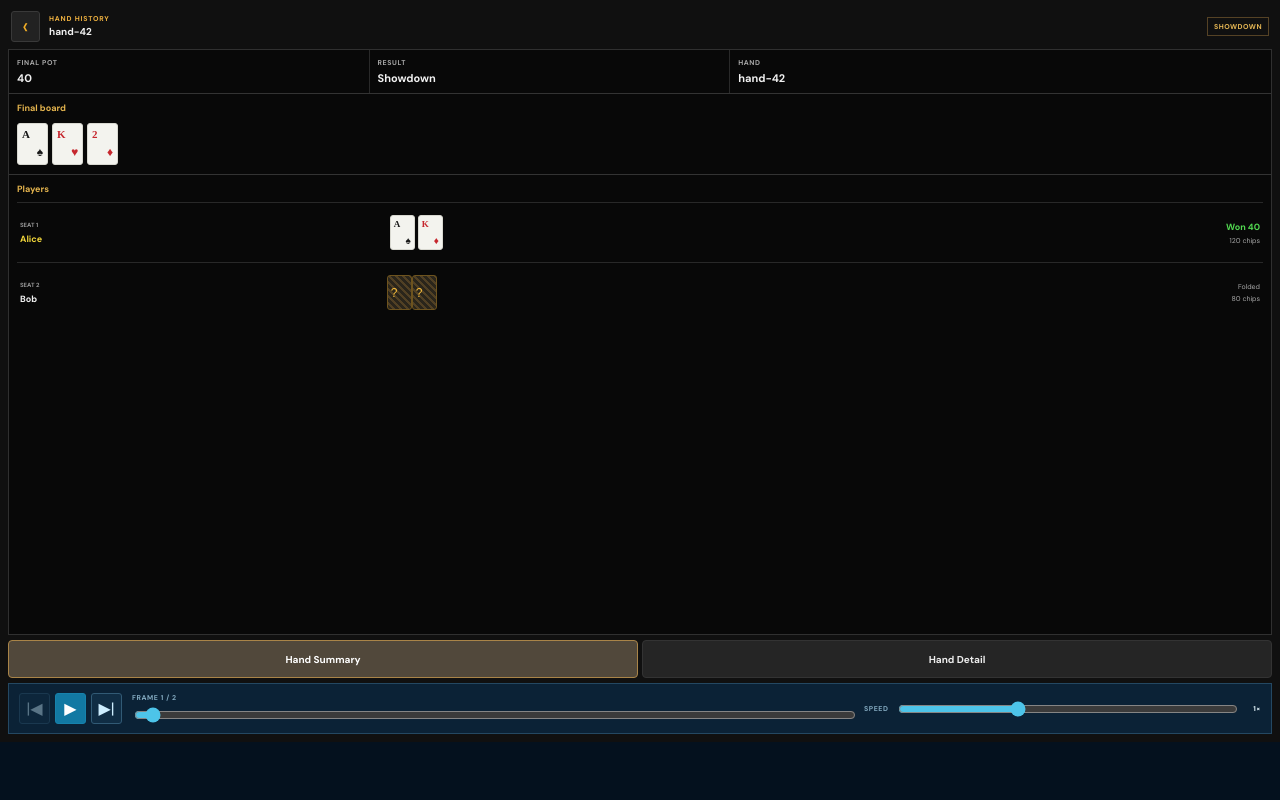
Scenario: HandReplayContainerComponent › shows street-grouped actions in Hand Detail
This screenshot has width=1280, height=800.
Click the tab "Hand Detail" at (957, 659), box [642, 640, 1272, 678]
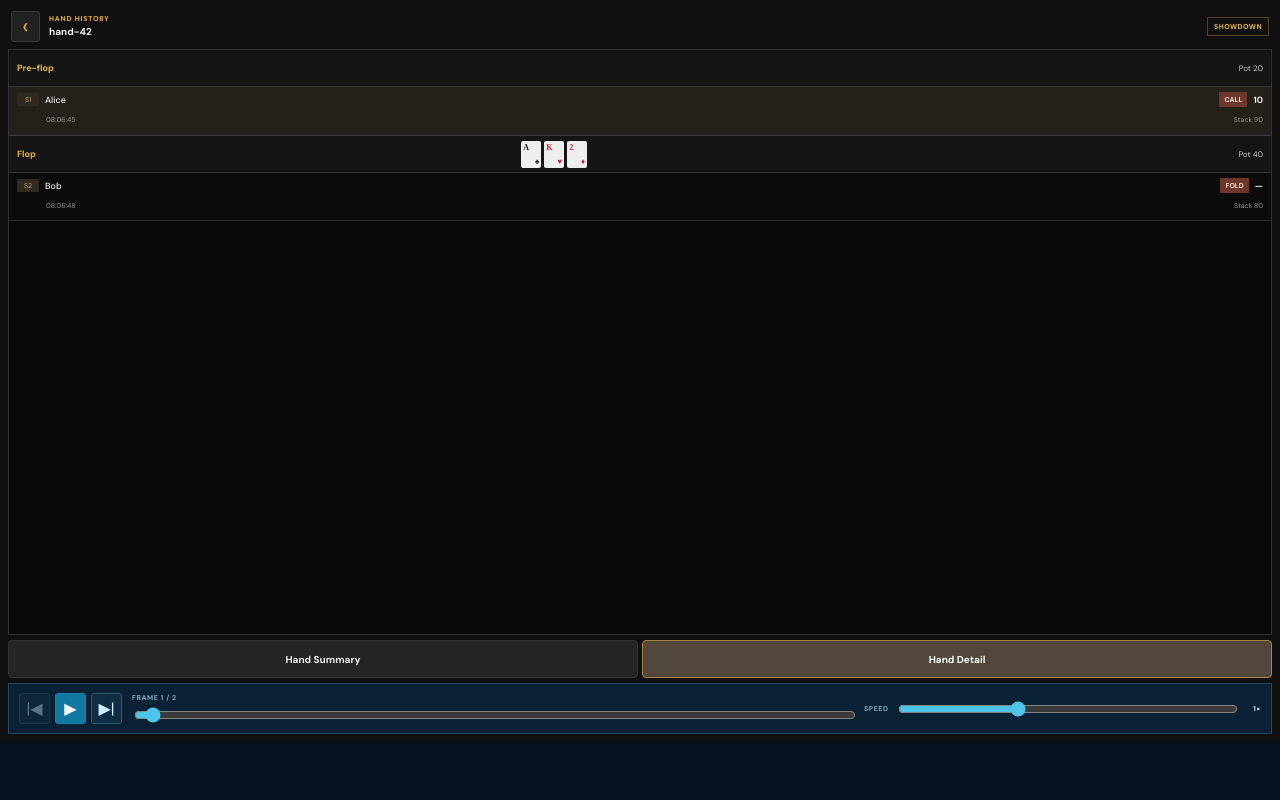
Expected: the element with class "summary-view" is gone
Expected: the element that starts with "Pre-flop" is shown
Expected: the number of elements with class "street-group" is 2, [9, 50, 1271, 135]; [9, 135, 1271, 221]
